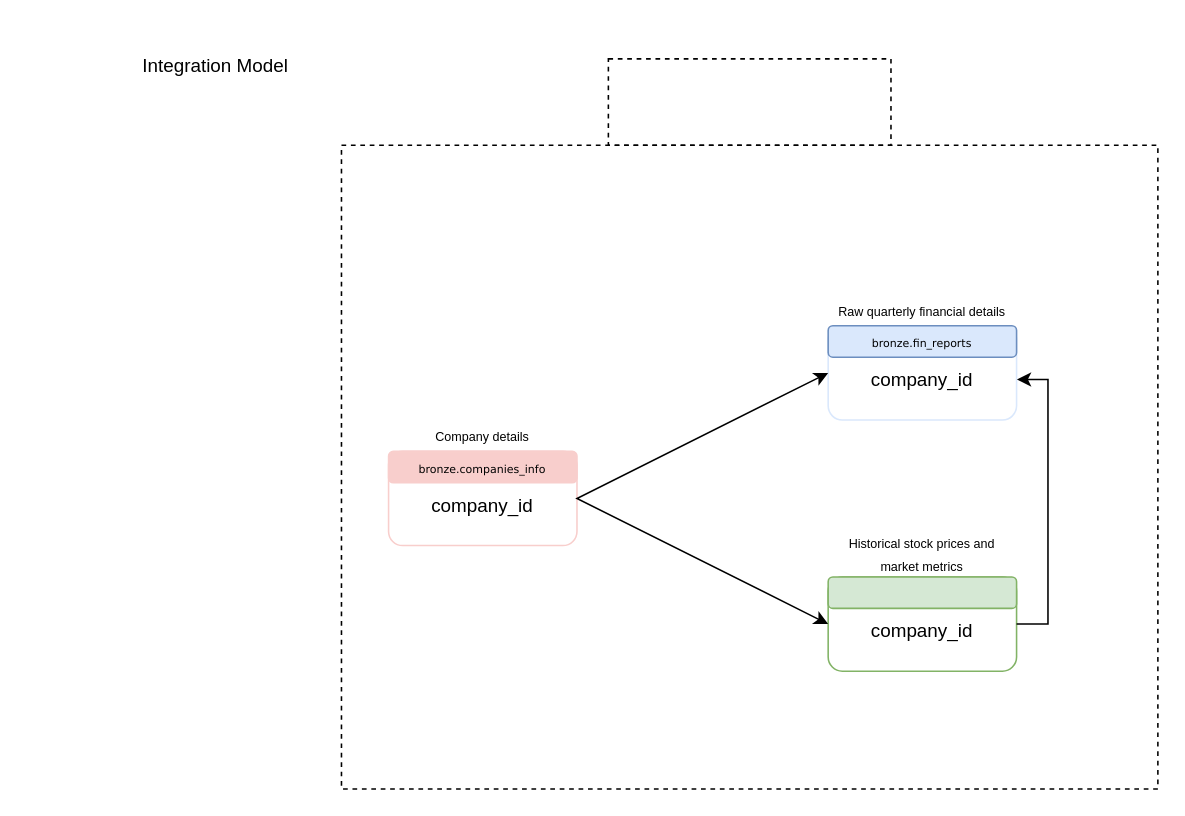
The diagram is 1185 pixels wide and 816 high, and some of its shapes have lost their labels. Each missing label, with the centre of its shape:
bronze.key_metrics: the point at 922,591
CRM: the point at 749,101
